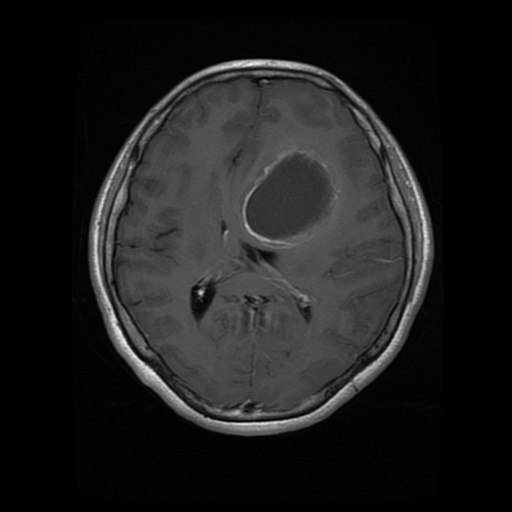glioma: (239, 144, 343, 246)
